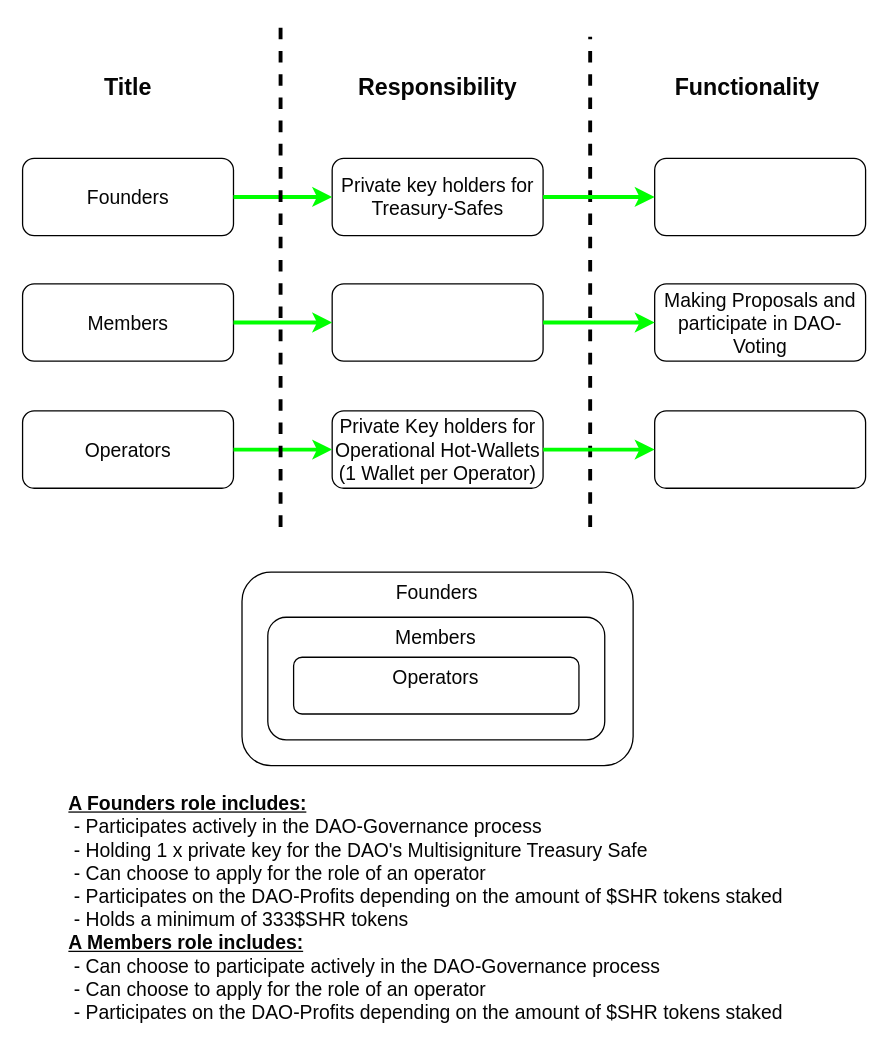
Some shapes in this 889 by 1053 pixel diagram are drawn without their labels. The shapes that lost their labels are listed below. From the top down, each one's centre as x and y in pixels, then its label:
At [759,196]: "Transfer of Treasury-Safe to Operational Hot-Wallets".
At [437,322]: "DAO-Governance-Vote (1 Vote per Member)".
At [759,449]: "Managing digital assets".
